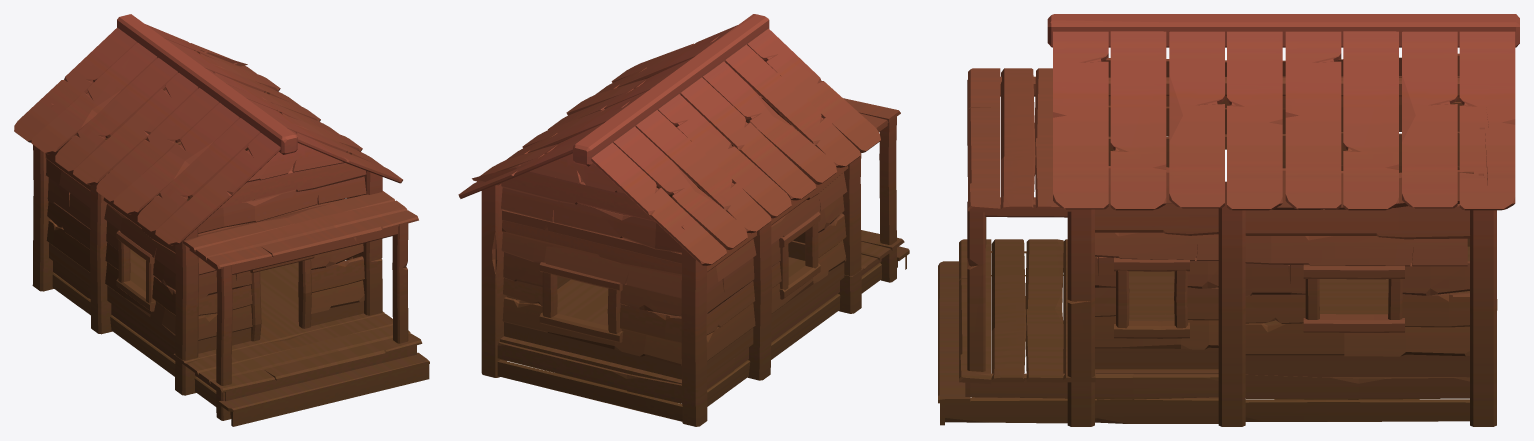
3 views of the same model, side by side, from view 1: azimuth 30°, elevation 25°; view 2: azimuth 150°, elevation 25°; view 3: azimuth 270°, elevation 25° (orthographic). The views are drawn at different scales.
Parts seen in each view (by area): view 1: WoodenHouse2; view 2: WoodenHouse2; view 3: WoodenHouse2.
Boxes of the visible parts, x1,y1,x2,y2 form: WoodenHouse2: [14, 14, 429, 426]; WoodenHouse2: [458, 14, 909, 426]; WoodenHouse2: [938, 14, 1519, 426].
Bounding box in the file's own units: 7.66 × 7.45 × 11.57.
Materials: 1 (1 with a texture image).
